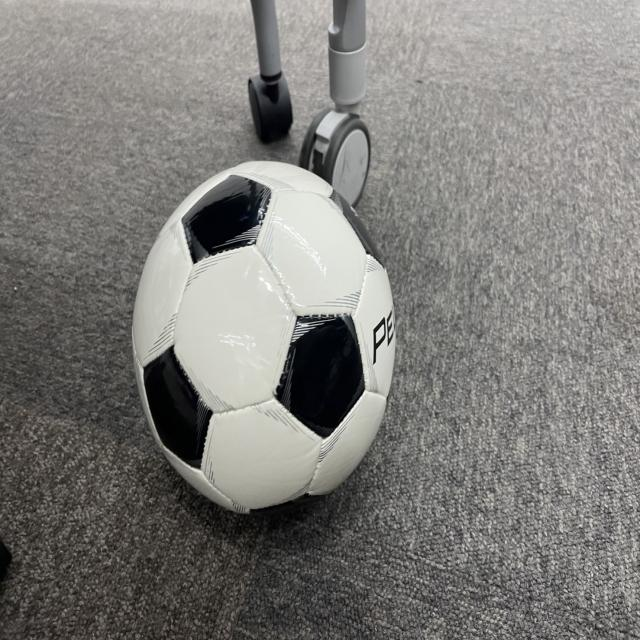ball: (135, 161, 398, 520)
